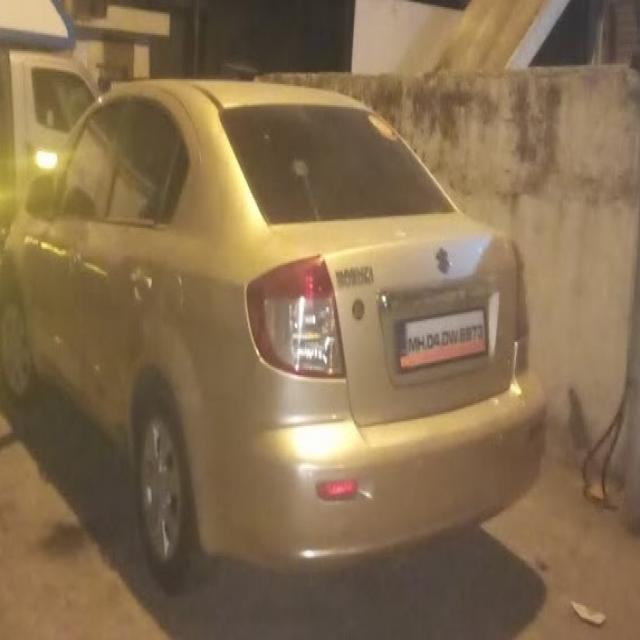Number-Plate: (403, 308, 480, 372)
